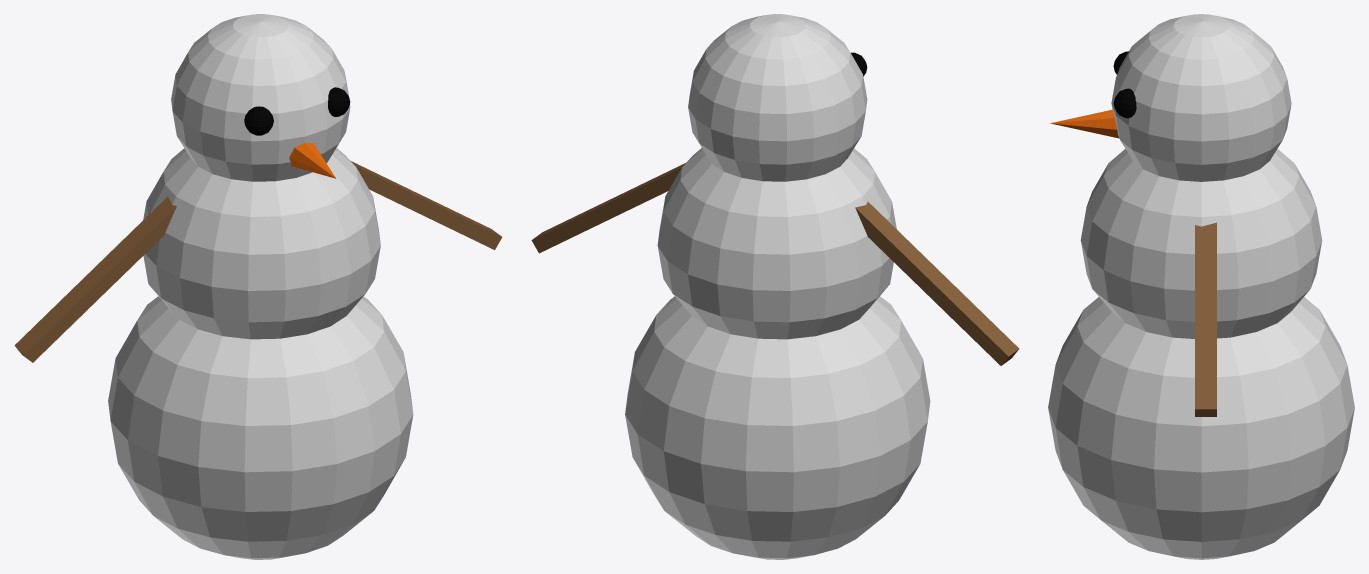
The model's file is Snoawman.glb.
The picture shows the model from 3 angles, left to right: view 1: azimuth 30°, elevation 25°; view 2: azimuth 150°, elevation 25°; view 3: azimuth 270°, elevation 25°; orthographic projection.
Visible parts, largest first — view 1: Sphere, Cube, Cube.001, Cone, Sphere.002; view 2: Sphere, Cube, Cube.001; view 3: Sphere, Cube.001, Cone, Sphere.001.
Part boxes in pixels (box(x1,y1,x2,y2)): Sphere: box(108, 14, 413, 559); Cube: box(14, 196, 176, 362); Cube.001: box(351, 161, 502, 249); Cone: box(289, 142, 336, 178); Sphere.002: box(244, 106, 273, 135); Sphere: box(625, 14, 930, 559); Cube: box(855, 202, 1019, 365); Cube.001: box(531, 163, 685, 253); Sphere: box(1048, 14, 1354, 559); Cube.001: box(1195, 222, 1216, 416); Cone: box(1050, 110, 1119, 138); Sphere.001: box(1113, 88, 1136, 118).
Bounding box in the file's own units: 6.11 × 6.43 × 3.41.
